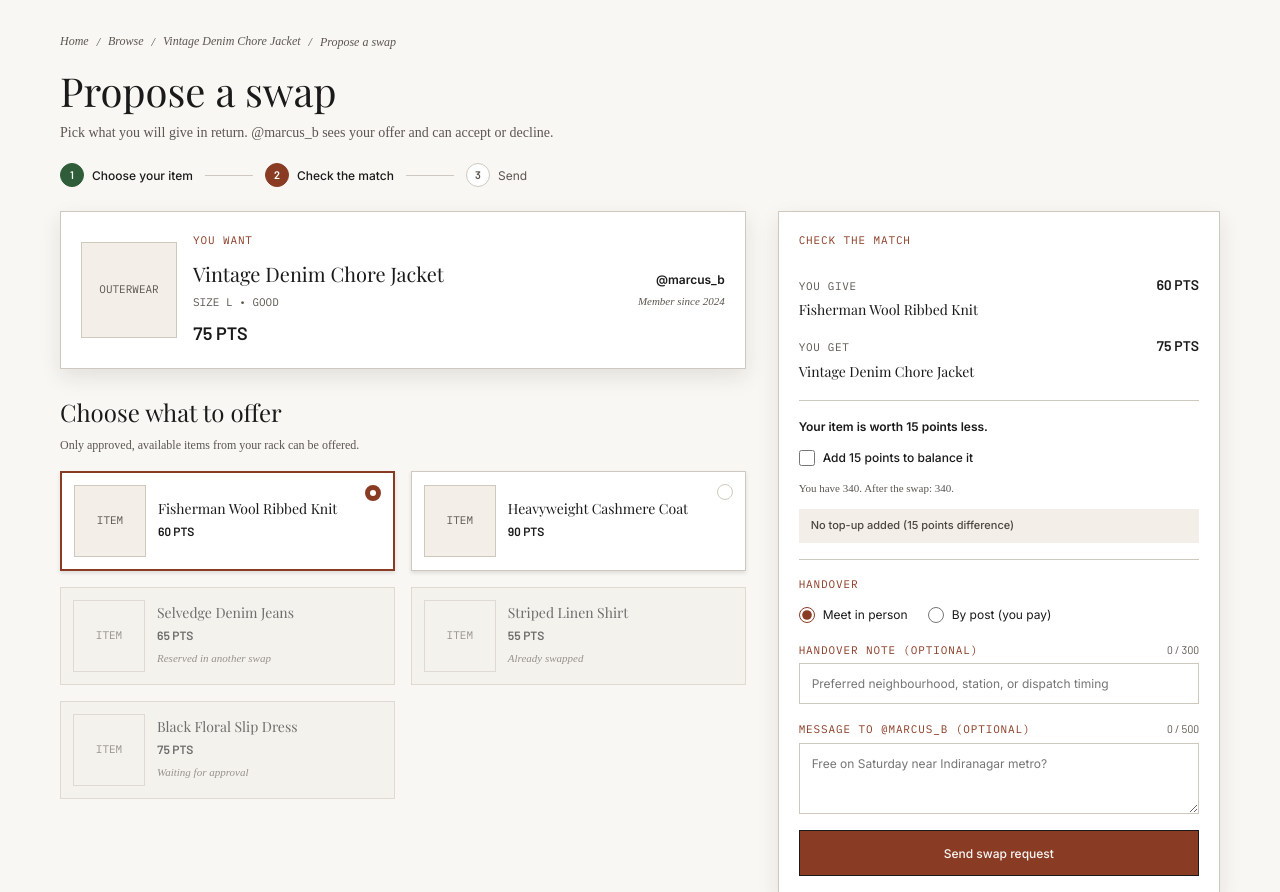
Scenario: ProposeSwapPage › shows wanted item details, allows only available/approved items, dims others with reasons, and toggles top-up rule from quote API
Expected: the heading "Vintage Denim Chore Jacket" is shown, top-left (193, 258), bottom-right (444, 290)
Expected: the text "@marcus_b" is shown, top-left (60, 125), bottom-right (554, 140)
Click the checkbox labelled "Add 15 points to balance it".
click(807, 458)  # box top-left (799, 450), bottom-right (815, 466)
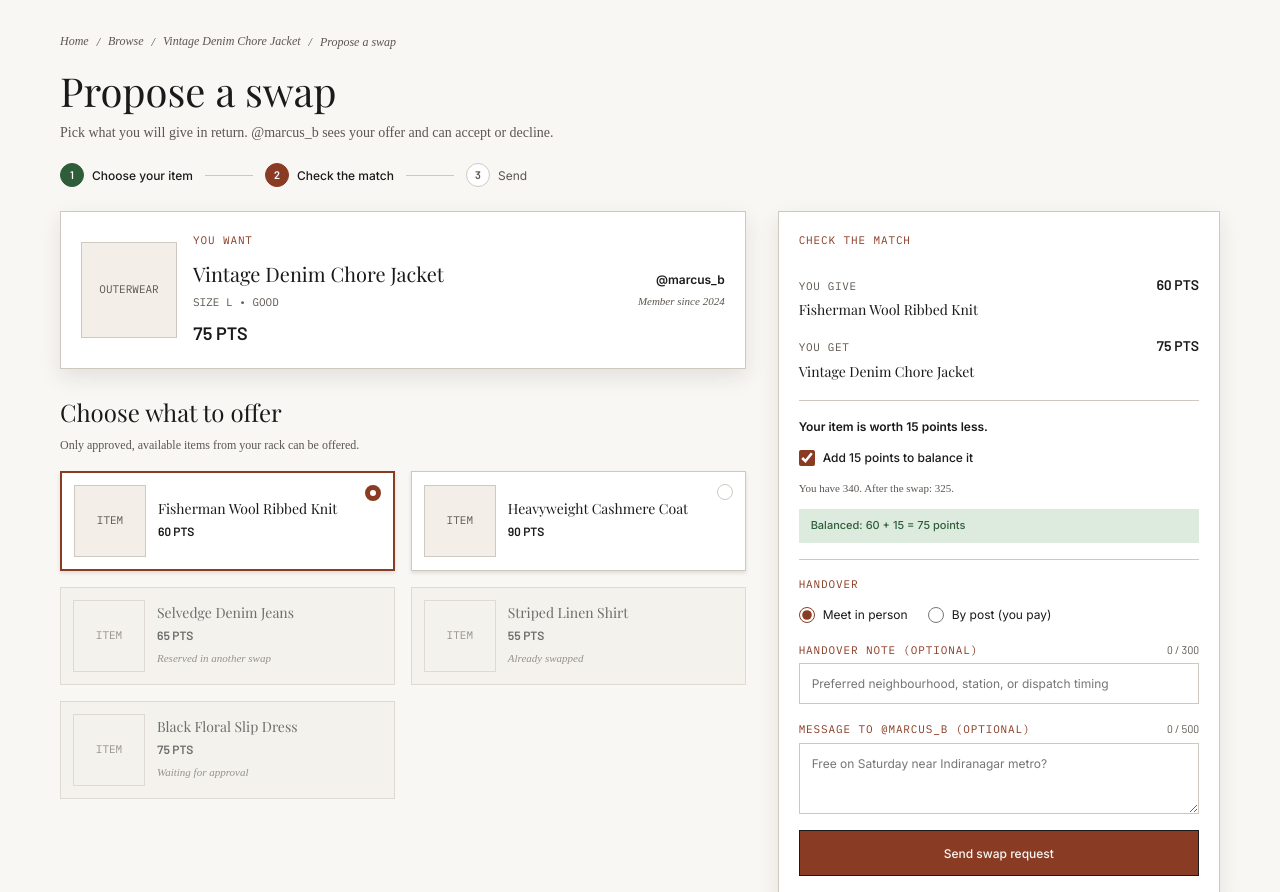
Now the checkbox labelled "Add 15 points to balance it" is checked, box top-left (799, 450), bottom-right (815, 466)
Now the text "Balanced: 60 + 15 = 75 points" is shown, box top-left (799, 509), bottom-right (1199, 543)
Now the text "You have 340. After the swap: 325." is shown, box top-left (799, 482), bottom-right (954, 494)
# Switching to an item worth more hides the top-up checkbox completely
Click the radio button labelled "ITEM Heavyweight Cashmere Coat 90 PTS".
click(578, 521)  # box top-left (411, 471), bottom-right (746, 571)
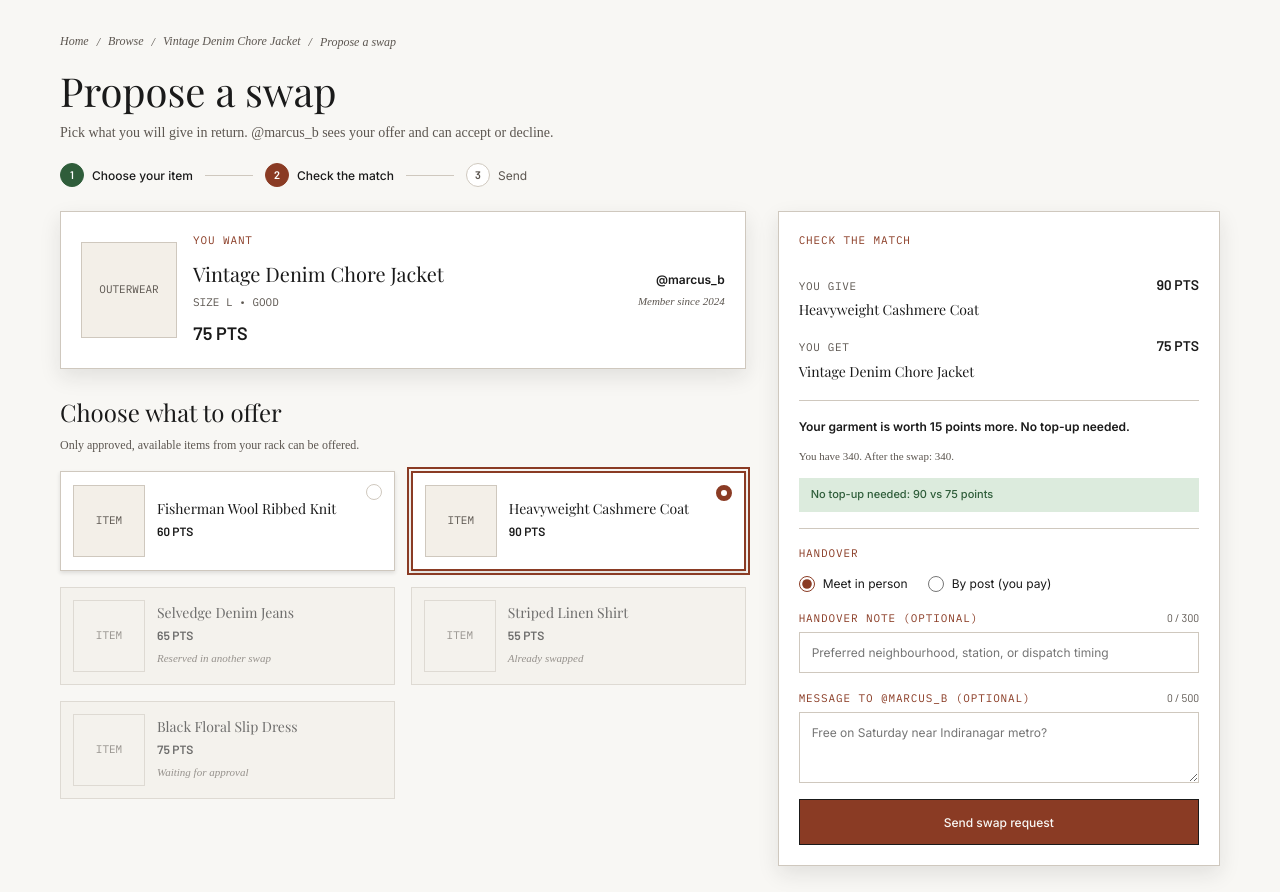
Now the text "Add 15 points to balance it" is gone
Now the text "No top-up needed: 90 vs 75 points" is shown, box top-left (799, 478), bottom-right (1199, 512)
